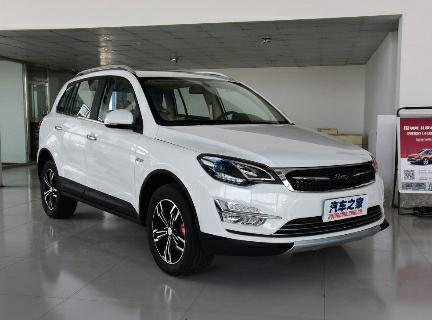众泰-大迈X5: (30, 60, 395, 284)
